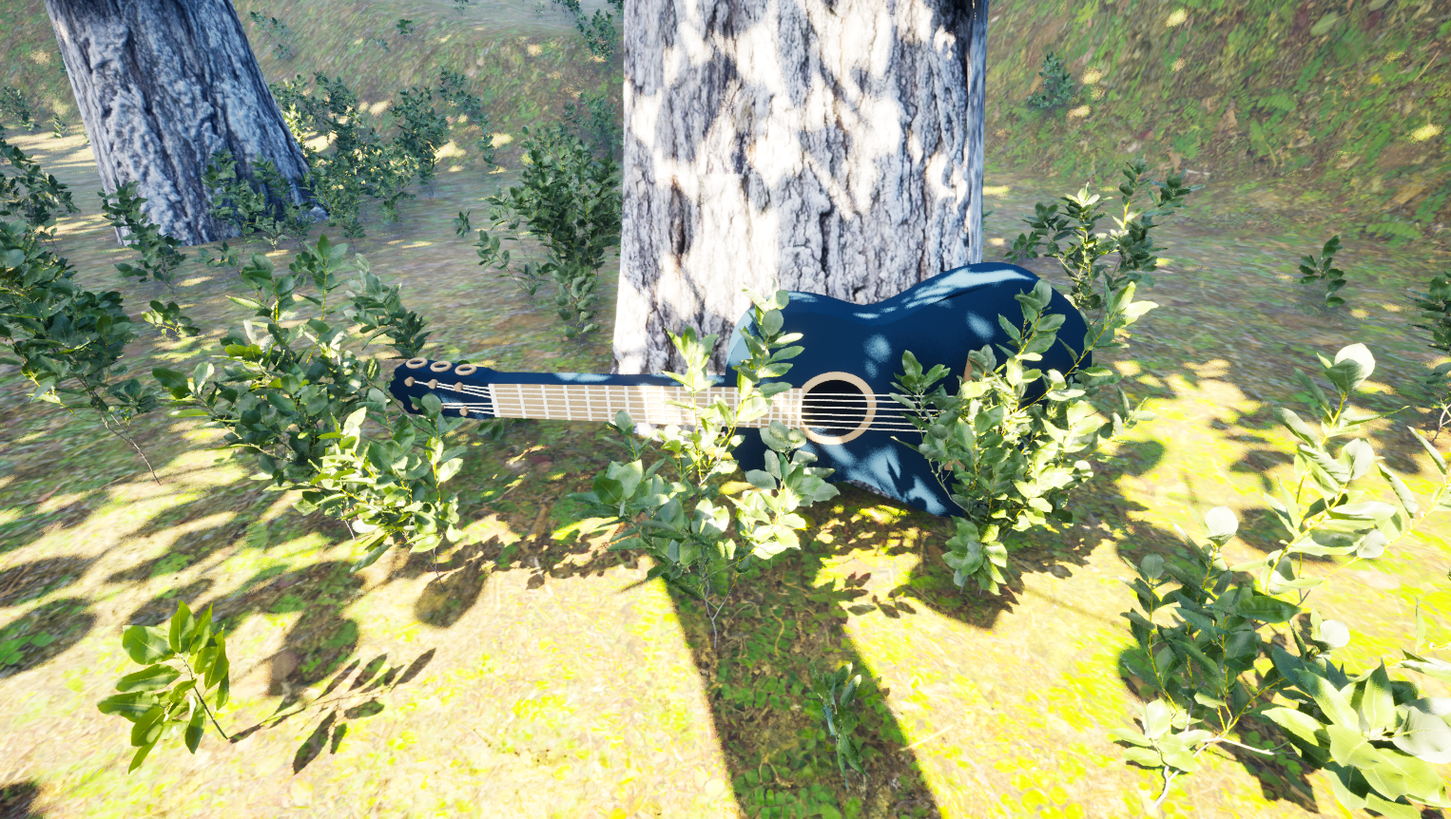Guitar: (339, 254, 1128, 523)
